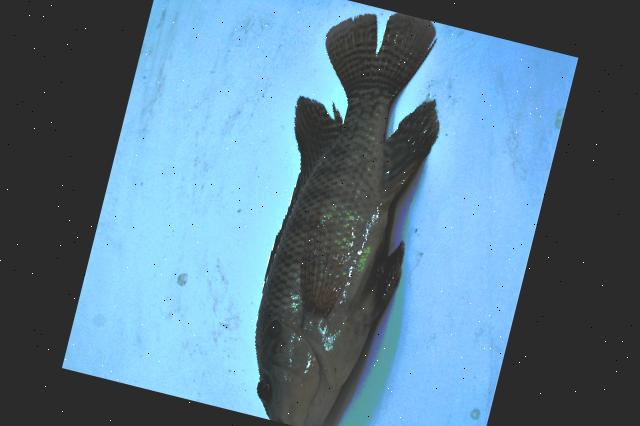Healthy Fish: (256, 13, 438, 426)
